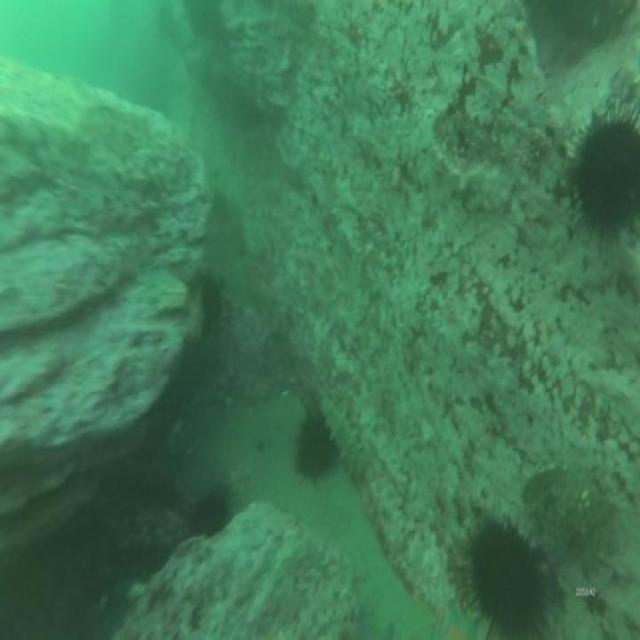echinus: (460, 522, 550, 632), (574, 111, 640, 237), (297, 411, 337, 476), (189, 496, 232, 539), (202, 278, 220, 335)
holothurian: (318, 393, 366, 479)
